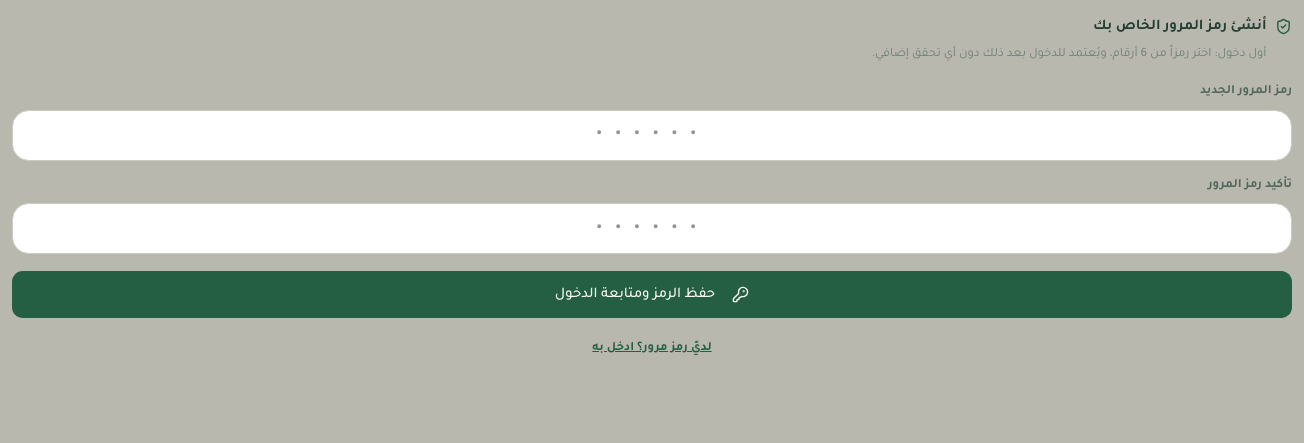
Test case: رمز المرور (6 أرقام) › يرفض تأكيداً غير مطابق للرمز
Step 1. Type "123456" into the password field labelled "رمز المرور الجديد" → (652, 135), box [12,110,1292,161]
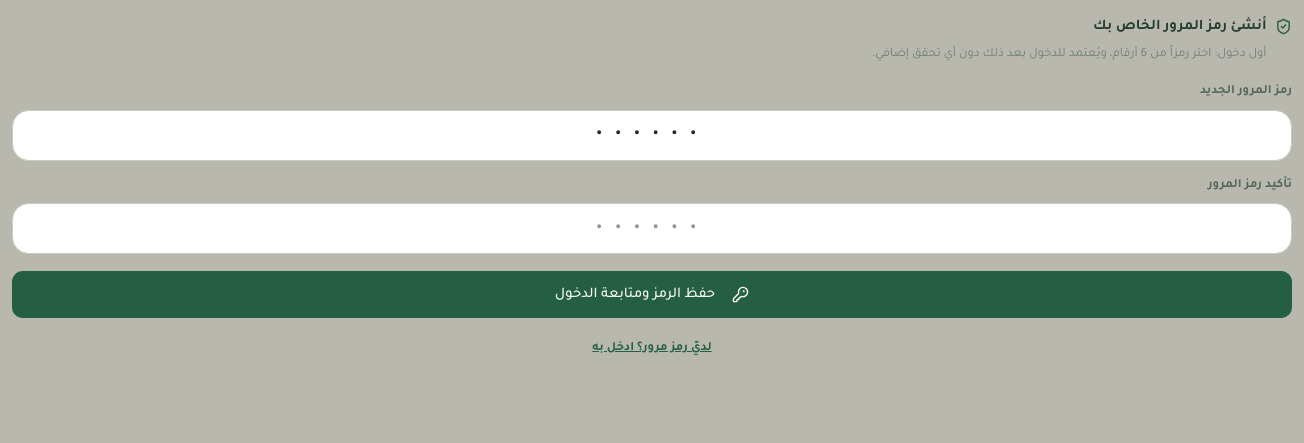
Step 2. Type "654321" into the password field labelled "تأكيد رمز المرور" → (652, 229), box [12,203,1292,254]
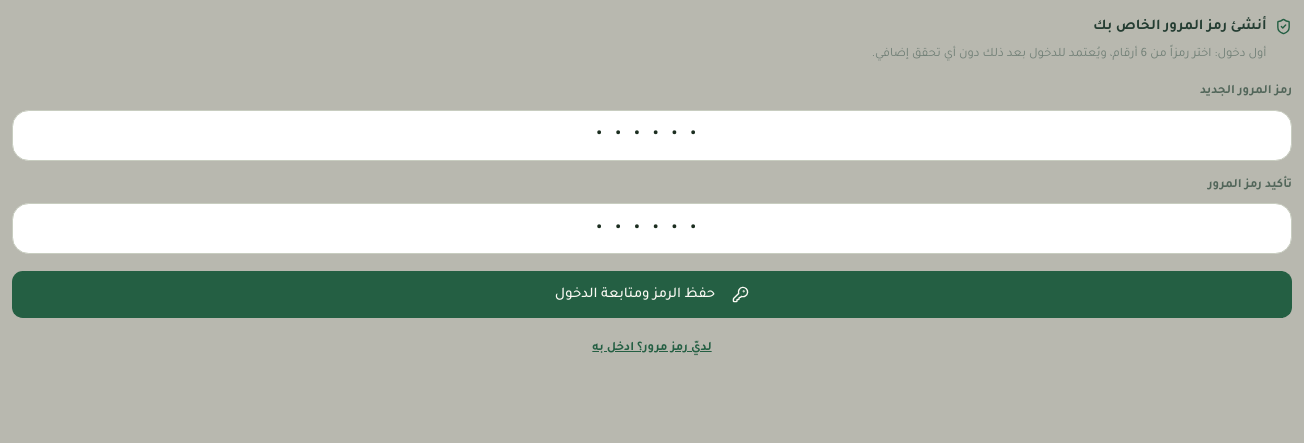
Step 3. Click the button "حفظ الرمز ومتابعة الدخول" → click(652, 295), box [12,271,1292,318]
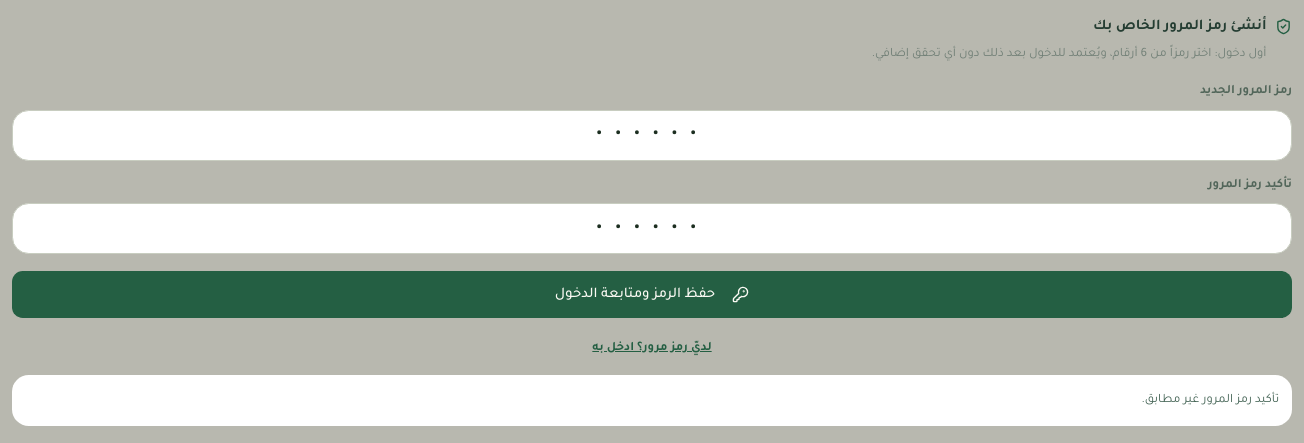
Result: the message shows "غير مطابق" at [1141,394,1279,407]
